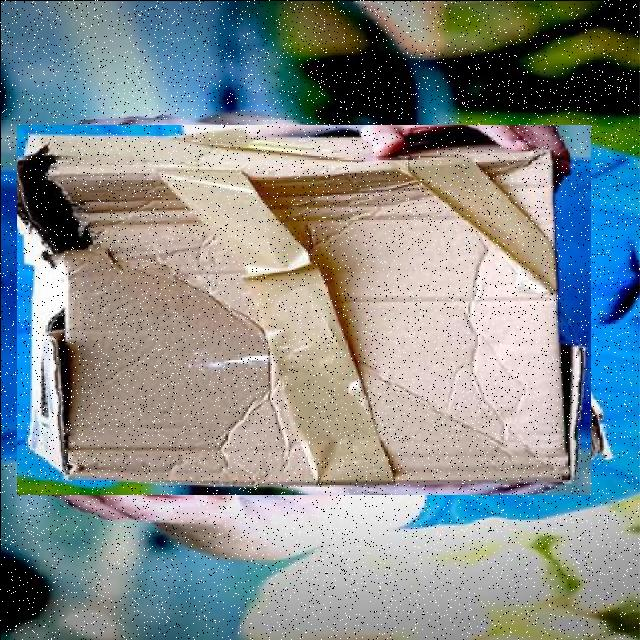defect: (16, 124, 590, 494)
